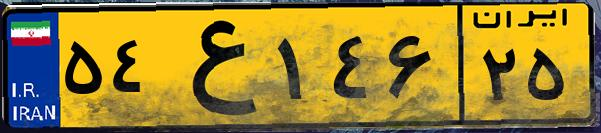1: (270, 28, 330, 110)
2: (475, 38, 525, 113)
4: (330, 28, 385, 110), (110, 28, 158, 98)
5: (57, 26, 110, 100), (525, 38, 570, 115)
6: (385, 28, 445, 110)
ع: (158, 12, 270, 120)
